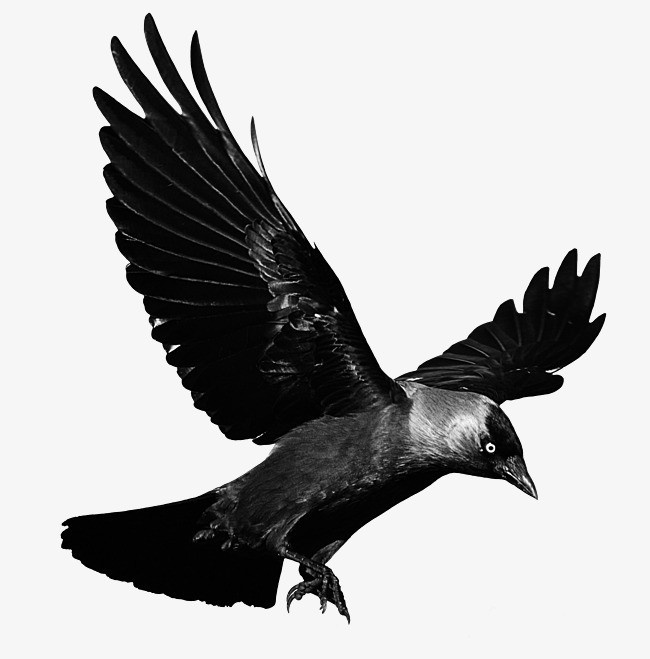bird: (27, 34, 611, 634)
